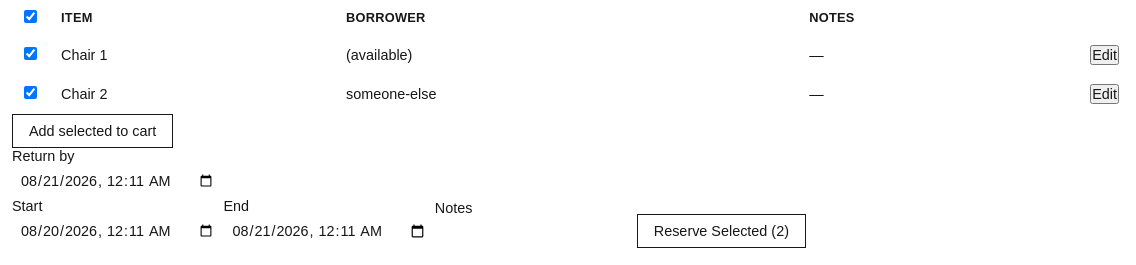
Scenario: Add selected to cart skips already-borrowed items and flags the count
Click the button "Add selected to cart" at (93, 131), box [12,114,173,148]
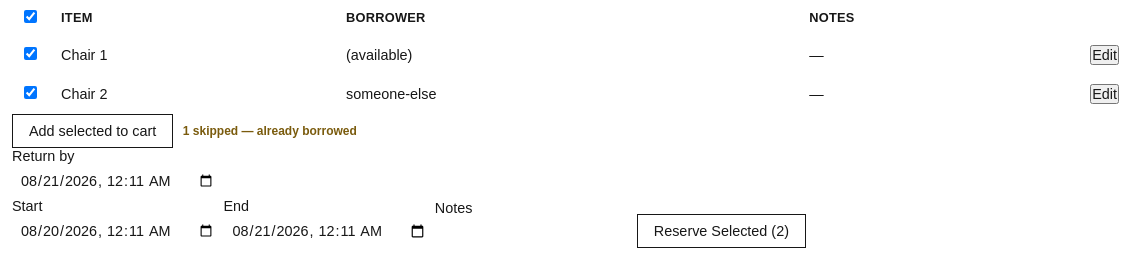
Expected: the text "1 skipped — already borrowed" is shown, [173,121,366,140]
